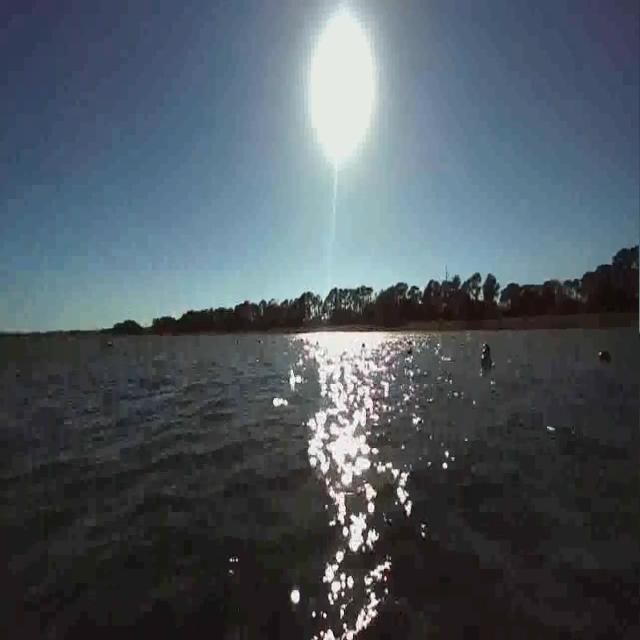red-buoy: (600, 350, 608, 362)
